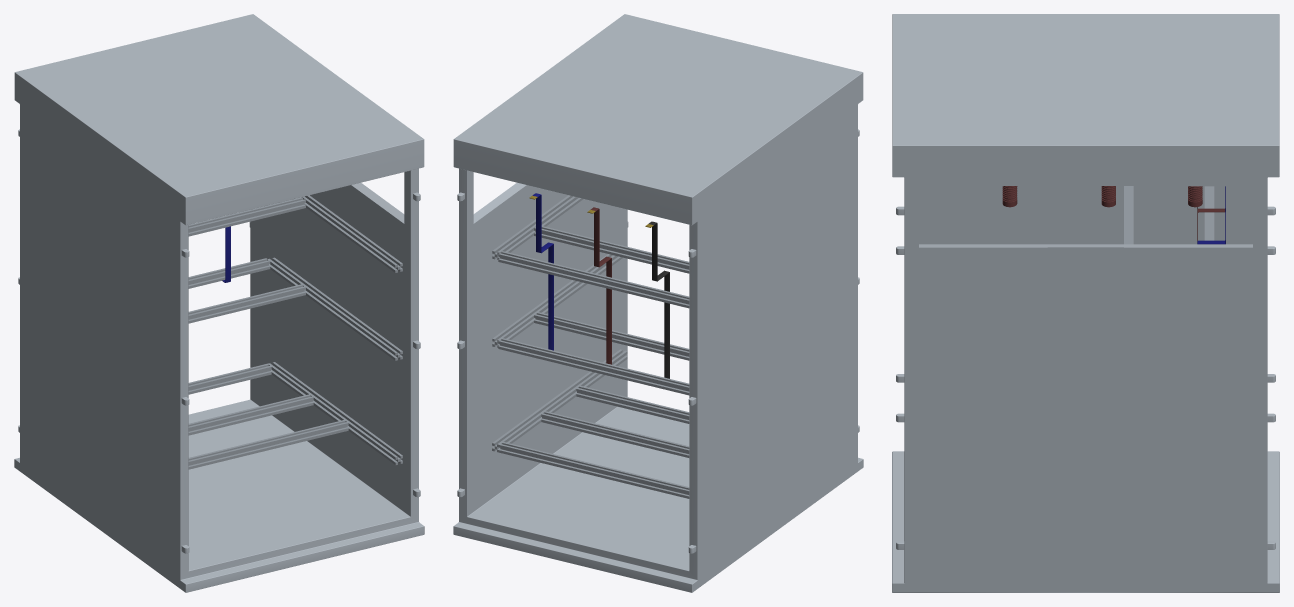
File: TR_CASE.fbx
The picture shows the model from 3 angles, left to right: view 1: azimuth 30°, elevation 25°; view 2: azimuth 150°, elevation 25°; view 3: azimuth 270°, elevation 25°; orthographic projection. The views are drawn at different scales.
Parts seen in each view (by area): view 1: tr_case; view 2: tr_case; view 3: tr_case.
Boxes of the visible parts, <box> form: tr_case: <box>14,14,424,592</box>; tr_case: <box>453,14,863,592</box>; tr_case: <box>892,14,1279,592</box>.
Size of the model in its own units: 1.29 by 2.04 by 1.61.
Materials: 1 (1 with a texture image).
